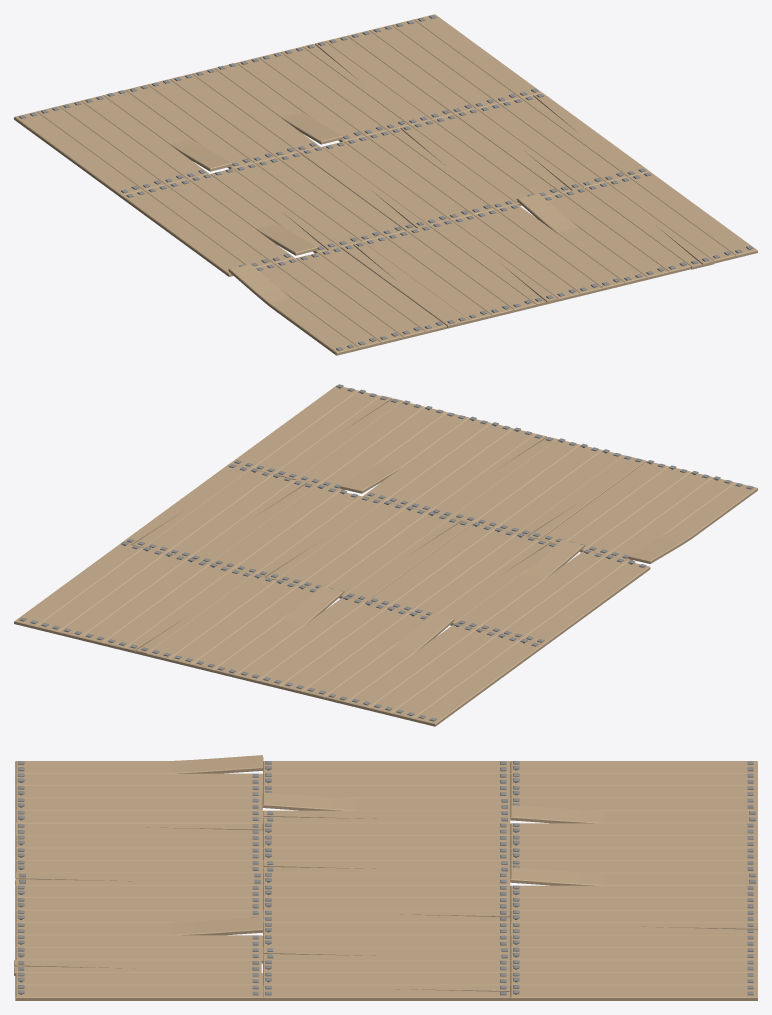
Rendered from to_unity_Plank.fbx.
The picture shows the model from 3 angles, top to bottom: view 1: azimuth 30°, elevation 25°; view 2: azimuth 150°, elevation 25°; view 3: azimuth 270°, elevation 25°; orthographic projection. The views are drawn at different scales.
Parts seen in each view (by area): view 1: polySurface227; view 2: polySurface227; view 3: polySurface227.
Boxes of the visible parts, left/top/right/bottom form: polySurface227: left=14, top=14, right=757, bottom=355; polySurface227: left=14, top=384, right=757, bottom=726; polySurface227: left=14, top=755, right=757, bottom=1000.
Bounding box in the file's own units: 420 × 8.81 × 559.
